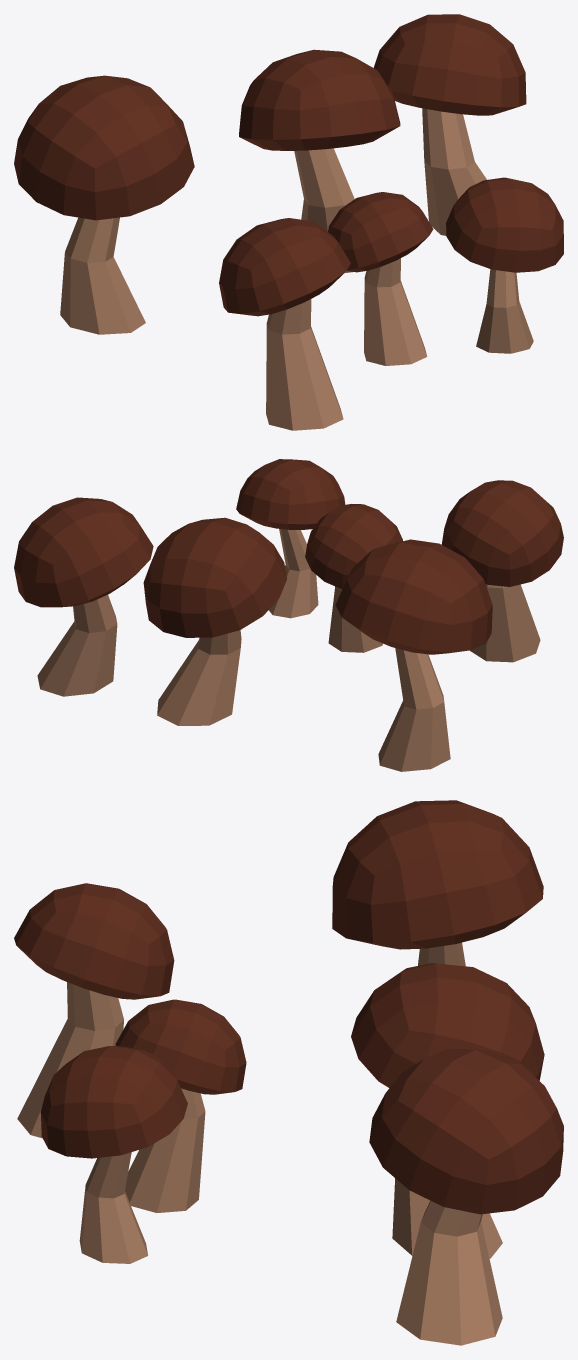
Rendered from mesh_mushrooms_01_brown.fbx.
The picture shows the model from 3 angles, top to bottom: view 1: azimuth 30°, elevation 25°; view 2: azimuth 150°, elevation 25°; view 3: azimuth 270°, elevation 25°; orthographic projection. The views are drawn at different scales.
Parts seen in each view (by area): view 1: mesh_mushrooms_01_brown_LOD0; view 2: mesh_mushrooms_01_brown_LOD0; view 3: mesh_mushrooms_01_brown_LOD0.
Part boxes in pixels (x1,y1,x2,y2): mesh_mushrooms_01_brown_LOD0: [14, 14, 563, 430]; mesh_mushrooms_01_brown_LOD0: [14, 459, 563, 771]; mesh_mushrooms_01_brown_LOD0: [14, 800, 563, 1345].
Size of what is drawn, in the model's own units: 0.9704 by 0.4394 by 0.7563.
